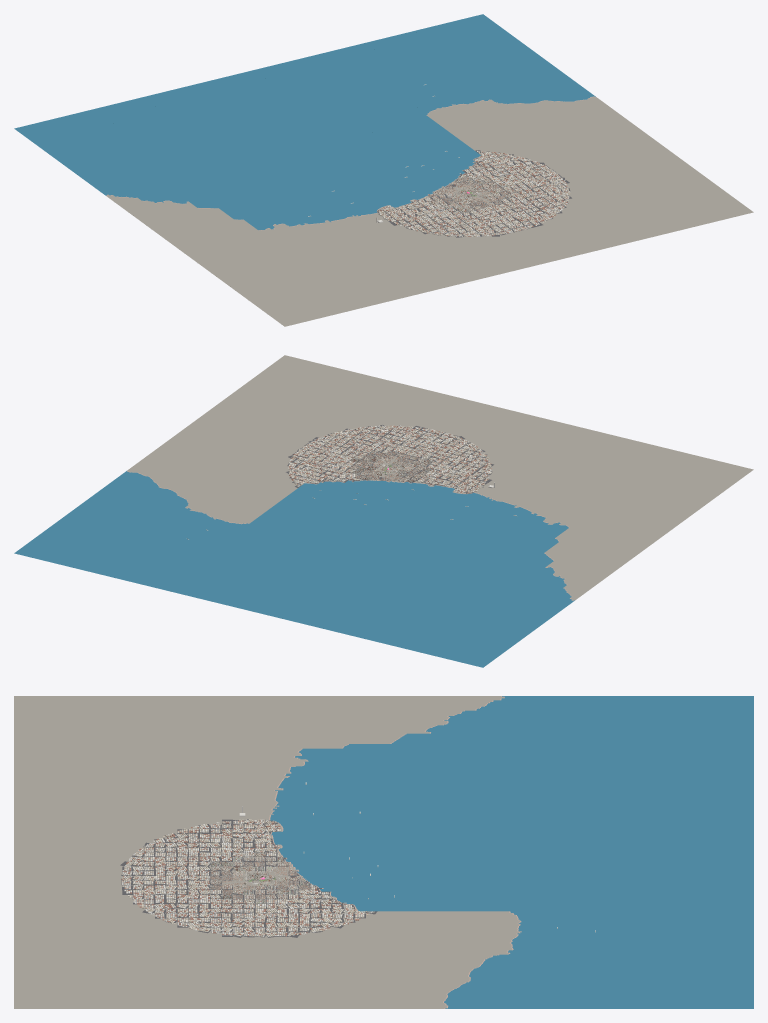
Rendered from site.glb.
3 renders of one model, top to bottom at view 1: azimuth 30°, elevation 25°; view 2: azimuth 150°, elevation 25°; view 3: azimuth 270°, elevation 25°, orthographic. The views are drawn at different scales.
Parts seen in each view (by area): view 1: Mer, Sol, Ville_b, Ville_a, Route, Brique, Ville_c, Parvis; view 2: Mer, Sol, Ville_b, Ville_a, Route, Brique, Ville_c; view 3: Mer, Sol, Route, Ville_b, Ville_a, Ville_c, Brique, Trottoir, Parvis.
Part boxes in pixels (bbox=[...]): Mer: bbox=[14, 14, 595, 230]; Sol: bbox=[107, 96, 753, 326]; Ville_b: bbox=[308, 84, 570, 236]; Ville_a: bbox=[379, 151, 569, 236]; Route: bbox=[377, 150, 571, 237]; Brique: bbox=[379, 151, 567, 236]; Ville_c: bbox=[310, 84, 570, 236]; Parvis: bbox=[106, 96, 594, 230]; Mer: bbox=[14, 471, 574, 667]; Sol: bbox=[127, 355, 753, 600]; Ville_b: bbox=[187, 425, 516, 539]; Ville_a: bbox=[288, 426, 491, 492]; Route: bbox=[286, 425, 493, 493]; Brique: bbox=[289, 425, 491, 492]; Ville_c: bbox=[187, 425, 515, 538]; Mer: bbox=[270, 696, 753, 1008]; Sol: bbox=[14, 696, 520, 1008]; Route: bbox=[120, 819, 377, 937]; Ville_b: bbox=[122, 782, 595, 936]; Ville_a: bbox=[122, 819, 374, 936]; Ville_c: bbox=[122, 783, 595, 936]; Brique: bbox=[121, 820, 368, 936]; Trottoir: bbox=[122, 820, 372, 936]; Parvis: bbox=[269, 696, 521, 1008].
Bounding box in the file's own units: 24000 × 266 × 24000.
